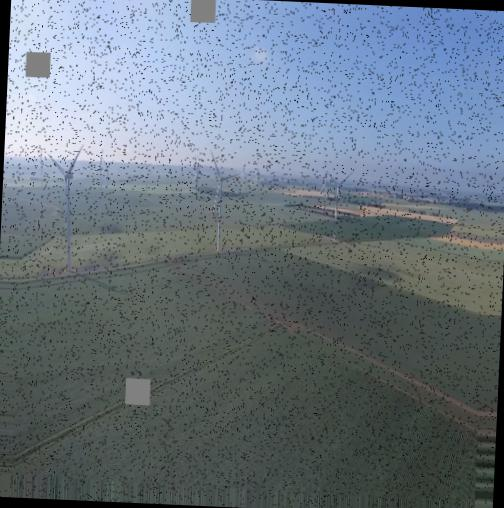wind turbine: (45, 144, 87, 286), (209, 150, 239, 252), (323, 167, 355, 217)
